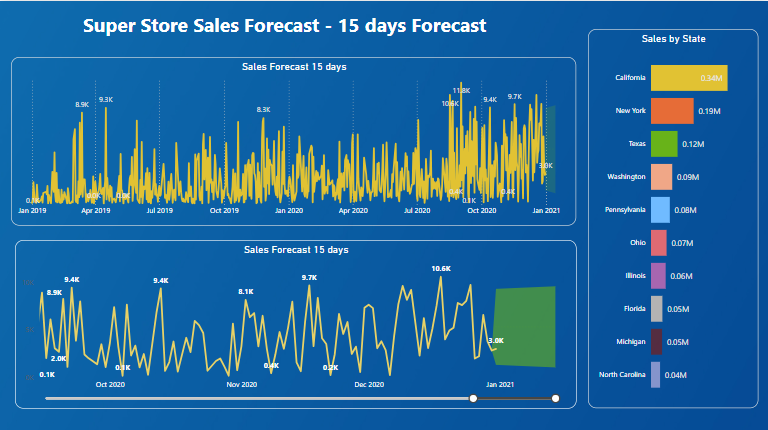

What the dashboard file says about the page in this screenshot:
{"tool":"powerbi","page":{"name":"Page 2","canvas":[1280,720],"ordinal":1},"visuals":[{"type":"lineChart","title":"Sales Forecast 15 days","fields":{"Y":["Sum(Sheet1.Sales)"],"Category":["Sheet1.Order Date"]},"box":[18.5,94.1,942.4,280.5],"z":0},{"type":"lineChart","title":"Sales Forecast 15 days","fields":{"Y":["Sum(Sheet1.Sales)"],"Category":["Sheet1.Order Date"]},"box":[25.2,398.1,935.6,280.5],"z":1000},{"type":"clusteredBarChart","title":"Sales by State","fields":{"Category":["Sheet1.State"],"Y":["Sum(Sheet1.Sales)"]},"box":[979.3,47,283.9,631.6],"z":2000},{"type":"textbox","box":[122.6,11.8,702.2,68.9],"z":2001}]}

Visuals, with their boxes in screenshot pixels (x1, y1, x2, y2), scaled from the page's 1280x720 canvas onto the 768x430 screenshot:
"Sales Forecast 15 days" lineChart: [11,56,577,224]
"Sales Forecast 15 days" lineChart: [15,238,576,405]
"Sales by State" clusteredBarChart: [588,28,758,405]
textbox: [74,7,495,48]
